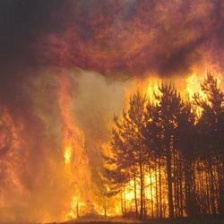fire: (145, 71, 219, 107), (63, 148, 93, 218), (123, 172, 158, 202)
